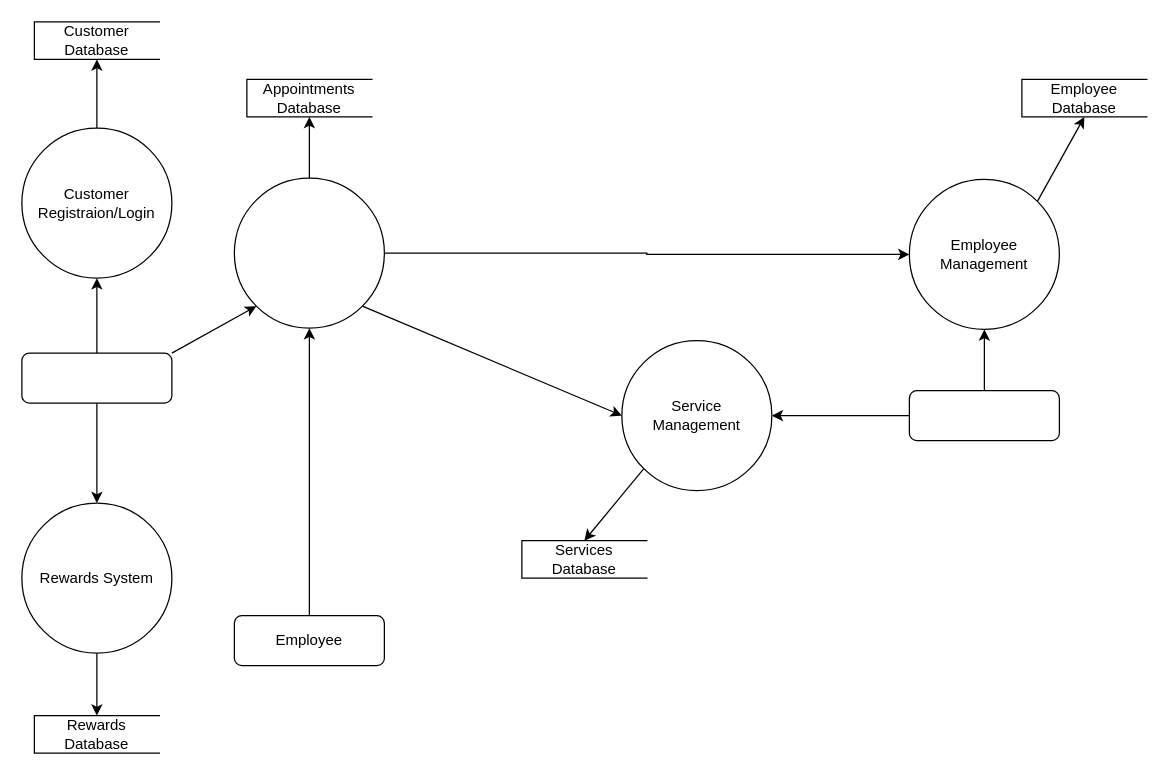
This 1169x775 diagram has some shape labels left out. The box of each missing label's shape, as (x1, y1, x2, y2) in pixels:
Admin: (908, 389, 1059, 441)
Booking Management: (233, 177, 384, 328)
Customer: (21, 352, 172, 403)
